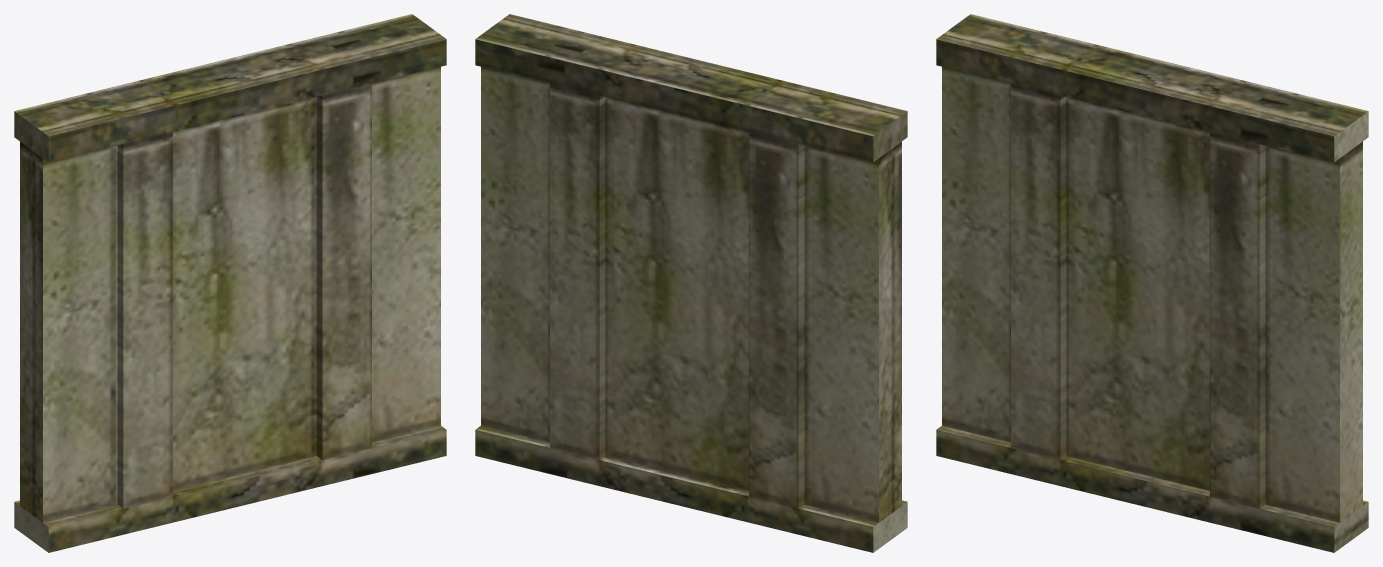
The model's file is MO_WALL_S-C_01.fbx.
3 views of the same model, side by side, from view 1: azimuth 30°, elevation 25°; view 2: azimuth 150°, elevation 25°; view 3: azimuth 330°, elevation 25° (orthographic).
Visible parts, largest first — view 1: MO_WALL_S-C_01; view 2: MO_WALL_S-C_01; view 3: MO_WALL_S-C_01.
Part boxes in pixels (bbox=[...]): MO_WALL_S-C_01: bbox=[14, 14, 446, 552]; MO_WALL_S-C_01: bbox=[475, 14, 907, 552]; MO_WALL_S-C_01: bbox=[936, 14, 1368, 552].
Size of the model in its own units: 4 by 4 by 0.6.
